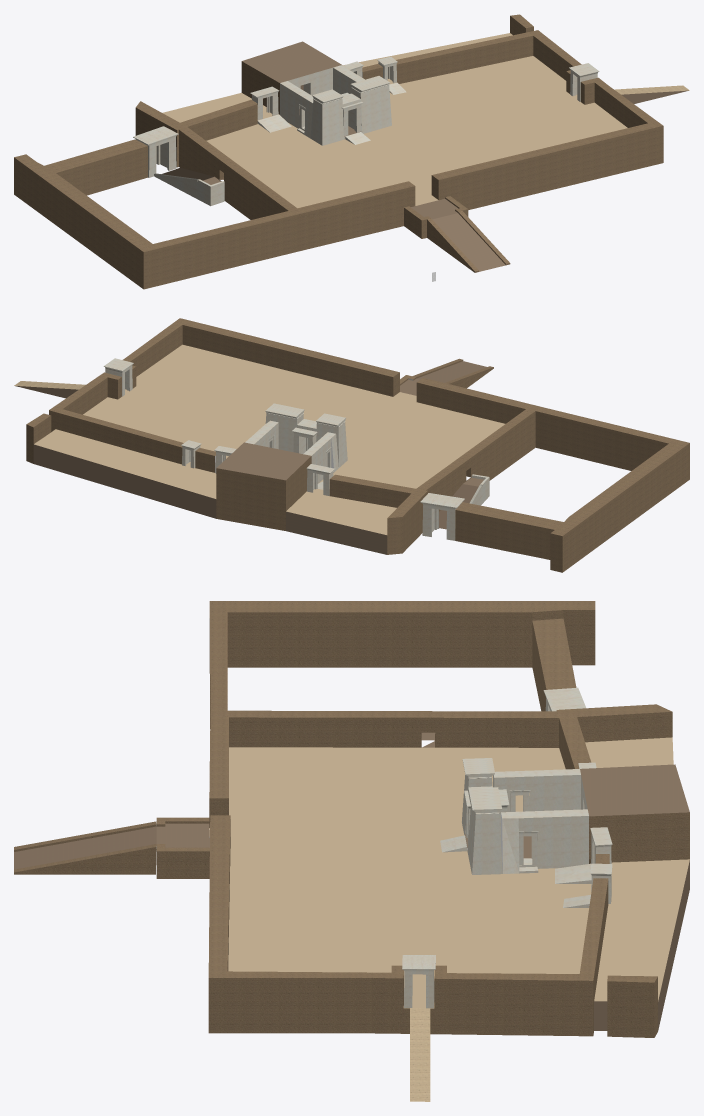
The model's file is SAN2.glb.
3 renders of one model, top to bottom at view 1: azimuth 30°, elevation 25°; view 2: azimuth 150°, elevation 25°; view 3: azimuth 270°, elevation 25°, orthographic. The views are drawn at different scales.
Parts seen in each view (by area): view 1: Mesh15 Model, Mesh5 Component_1_1 Model, Mesh13 Component_5_1 Model, Mesh3 Gate2_2_1 Model, Mesh12 Component_5_1 Model, Mesh14 Gate2_3_5 Model, Mesh2 Gate2_1_1 Model, Mesh6 Gate2_3_2 Model; view 2: Mesh15 Model, Mesh3 Gate2_2_1 Model, Mesh5 Component_1_1 Model, Mesh12 Component_5_1 Model, Mesh13 Component_5_1 Model, Mesh14 Gate2_3_5 Model, Mesh2 Gate2_1_1 Model, Mesh6 Gate2_3_2 Model; view 3: Mesh15 Model, Mesh12 Component_5_1 Model, Mesh14 Gate2_3_5 Model, Mesh3 Gate2_2_1 Model, Mesh10 Component_4_1 Component_5_1 Model.
Boxes of the visible parts, x1=… form: Mesh15 Model: x1=14, y1=14, x2=689, y2=289; Mesh5 Component_1_1 Model: x1=154, y1=168, x2=224, y2=206; Mesh13 Component_5_1 Model: x1=310, y1=99, x2=343, y2=145; Mesh3 Gate2_2_1 Model: x1=133, y1=126, x2=178, y2=177; Mesh12 Component_5_1 Model: x1=351, y1=85, x2=391, y2=133; Mesh14 Gate2_3_5 Model: x1=569, y1=63, x2=599, y2=101; Mesh2 Gate2_1_1 Model: x1=250, y1=86, x2=279, y2=119; Mesh6 Gate2_3_2 Model: x1=341, y1=92, x2=363, y2=136; Mesh15 Model: x1=14, y1=318, x2=689, y2=572; Mesh3 Gate2_2_1 Model: x1=420, y1=493, x2=464, y2=540; Mesh5 Component_1_1 Model: x1=439, y1=474, x2=489, y2=529; Mesh12 Component_5_1 Model: x1=265, y1=413, x2=303, y2=452; Mesh13 Component_5_1 Model: x1=316, y1=422, x2=347, y2=467; Mesh14 Gate2_3_5 Model: x1=103, y1=358, x2=133, y2=396; Mesh2 Gate2_1_1 Model: x1=306, y1=464, x2=334, y2=495; Mesh6 Gate2_3_2 Model: x1=292, y1=427, x2=317, y2=453; Mesh15 Model: x1=14, y1=601, x2=689, y2=1101; Mesh12 Component_5_1 Model: x1=467, y1=803, x2=502, y2=874; Mesh14 Gate2_3_5 Model: x1=402, y1=955, x2=435, y2=1008; Mesh3 Gate2_2_1 Model: x1=543, y1=687, x2=585, y2=711; Mesh10 Component_4_1 Component_5_1 Model: x1=468, y1=787, x2=502, y2=814.
Size of the model in its own units: 112 by 10.53 by 71.8.
Materials: 12 (9 with a texture image).
